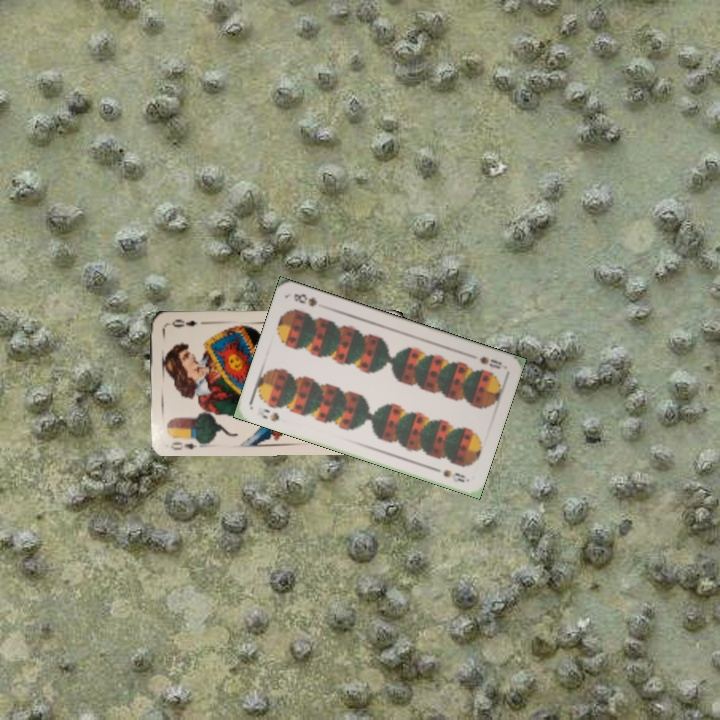EO: (167, 433, 204, 452)
S8: (475, 352, 504, 371), (258, 404, 282, 424)
